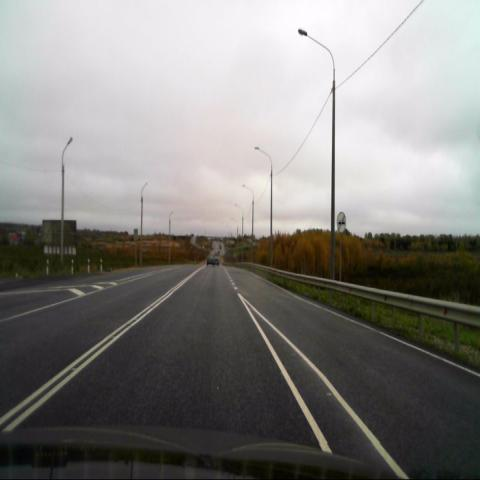3_21: (336, 211, 346, 234)
